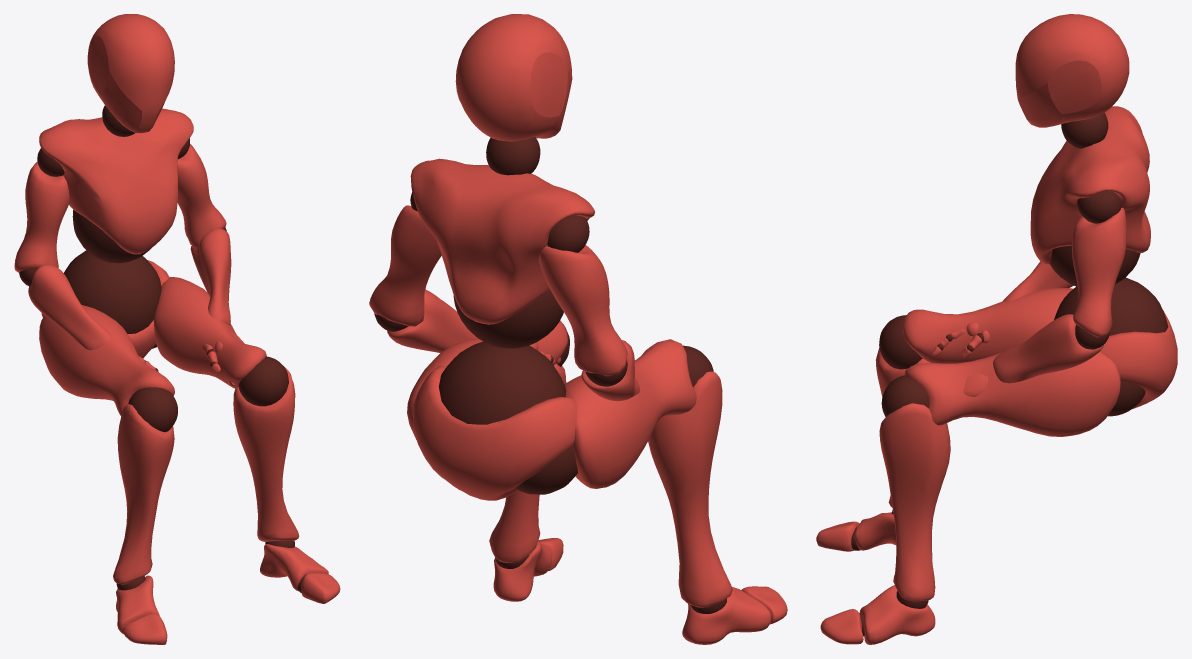
Rendered from sitting.obj.
The picture shows the model from 3 angles, left to right: view 1: azimuth 30°, elevation 25°; view 2: azimuth 150°, elevation 25°; view 3: azimuth 270°, elevation 25°; orthographic projection. The views are drawn at different scales.
Visible parts, largest first — view 1: Beta_Surface, Beta_Joints; view 2: Beta_Surface, Beta_Joints; view 3: Beta_Surface, Beta_Joints.
Boxes of the visible parts, x1,y1,x2,y2 form: Beta_Surface: (14,14,340,644); Beta_Joints: (19,105,305,593); Beta_Surface: (369,14,787,644); Beta_Joints: (374,137,726,613); Beta_Surface: (816,14,1177,644); Beta_Joints: (851,112,1168,636).
Size of the model in its own units: 0.5856 by 1.38 by 0.786.
